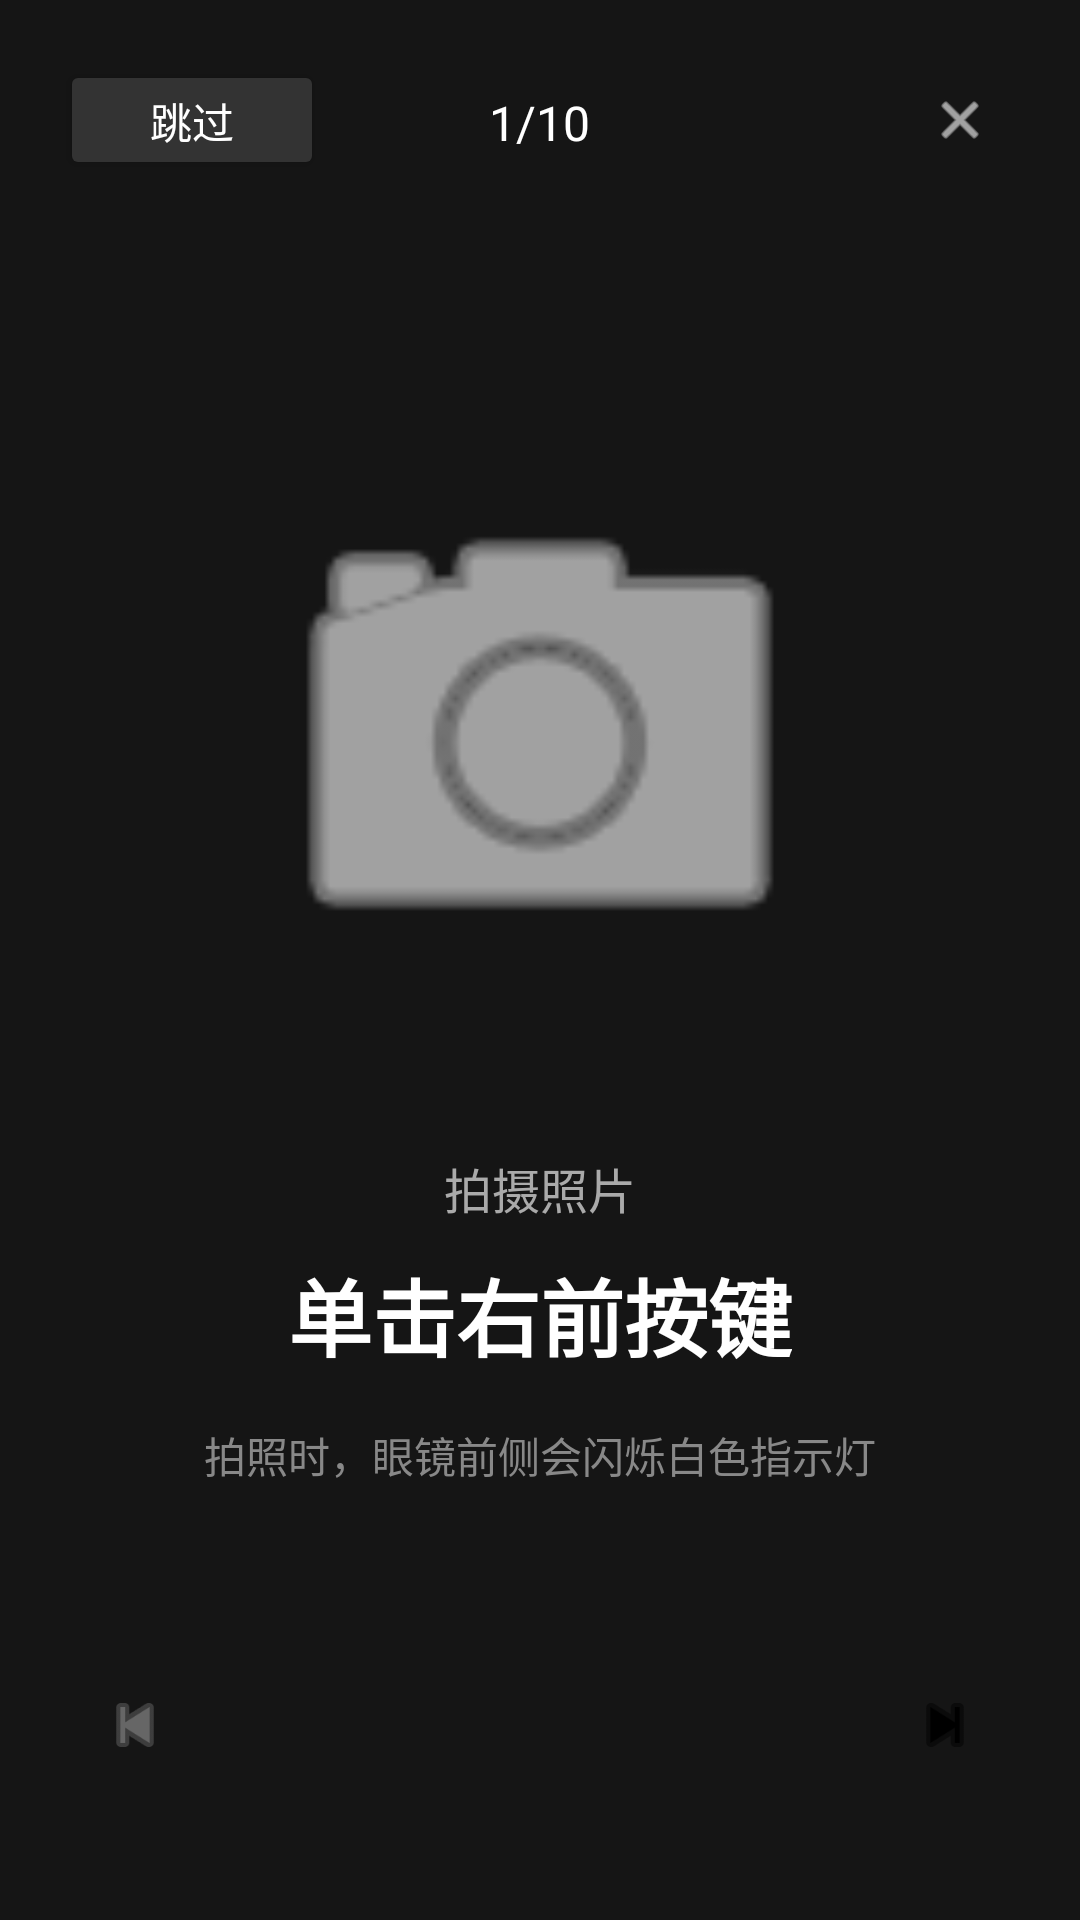

Screen size 1080px×1920px. Icon name, then its center in pixels as (x=x, y=y):
close clear cancel: (x=960, y=120)
previous: (x=135, y=1725)
